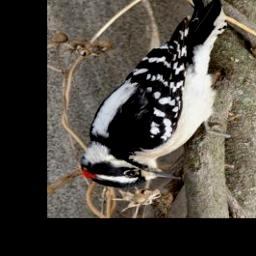Woodpecker: (80, 0, 229, 189)
